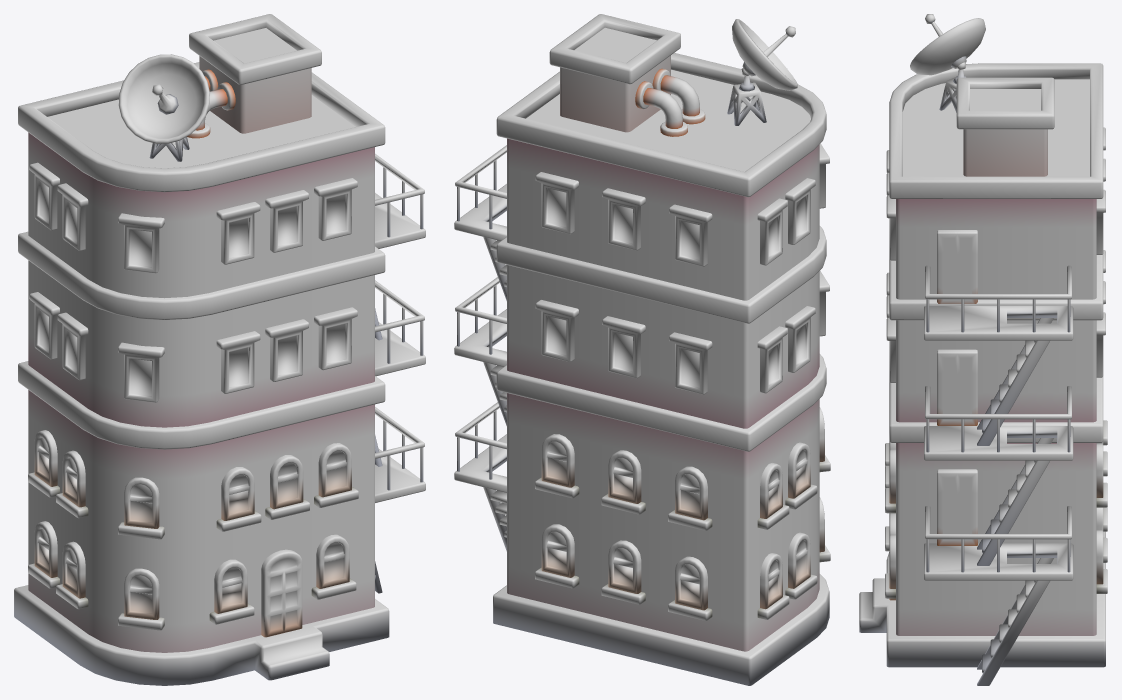
The model's file is Building_094.fbx.
3 renders of one model, left to right at view 1: azimuth 30°, elevation 25°; view 2: azimuth 150°, elevation 25°; view 3: azimuth 270°, elevation 25°, orthographic. The views are drawn at different scales.
Visible parts, largest first — view 1: Building_094; view 2: Building_094; view 3: Building_094.
Part boxes in pixels (x1,y1,x2,y2): Building_094: [14, 14, 425, 685]; Building_094: [454, 14, 830, 685]; Building_094: [859, 14, 1107, 685].
Size of the model in its own units: 1045 by 743 by 1861.
